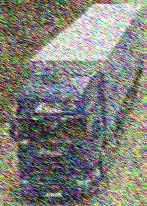truck: (9, 3, 145, 199)
